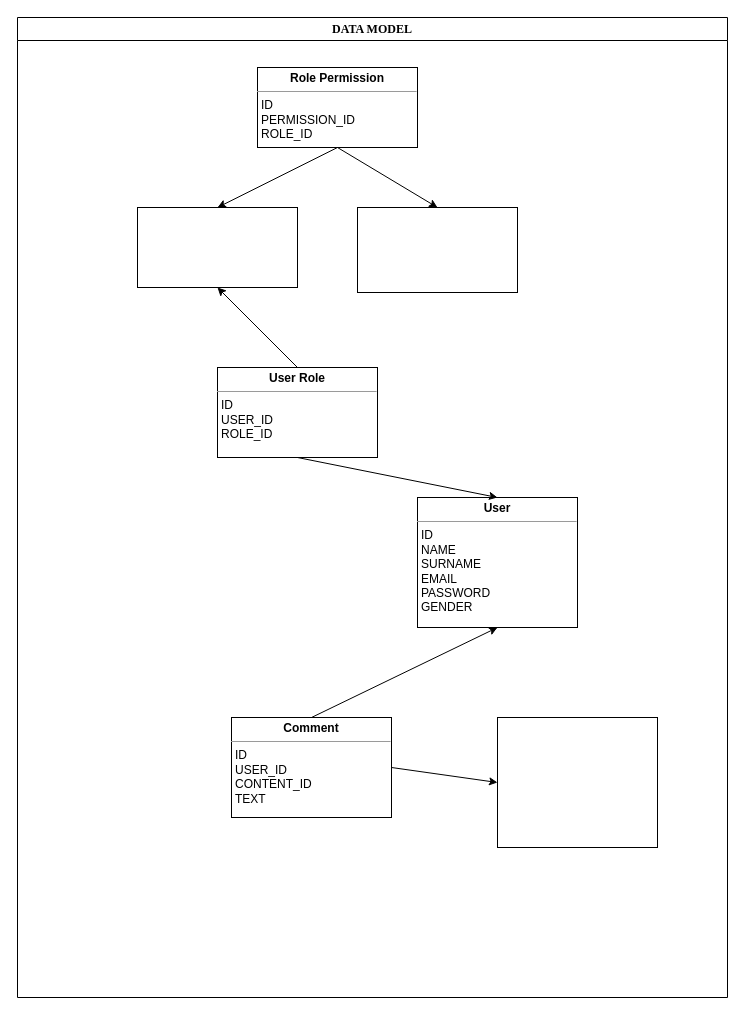
This 745x1015 diagram has some shape labels left out. Here are the shapes that lost their labels. From the top down, the centre of each, then its label:
pixel 217 247: Role ID NAME
pixel 437 249: Permission ID NAME
pixel 577 782: Content ID TITLE SUMMARY CATEGORY YEAR TIME
